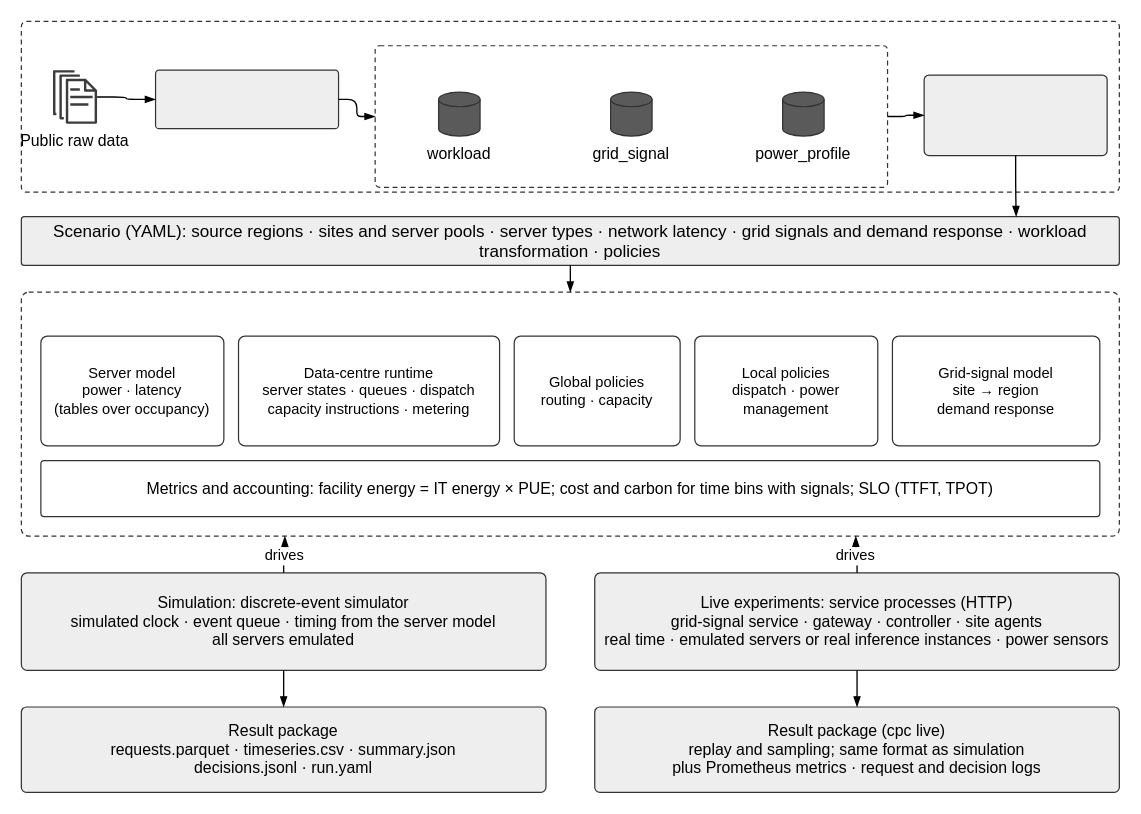
Image size: 1141x814. Some labels were removed from this diagram. The box of each missing label's shape, as (x1, y1, x2, y2) in pixels:
Conversion (by the user) examples/datasets/: (154, 69, 339, 129)
Data layer: (20, 20, 1119, 192)
Datasets in the platform format (descriptor + data file): (374, 45, 888, 187)
Shared parts (one implementation for simulation and live experiments): (20, 291, 1119, 536)
Validation · columnar loading (kind specifications): (923, 74, 1107, 156)
